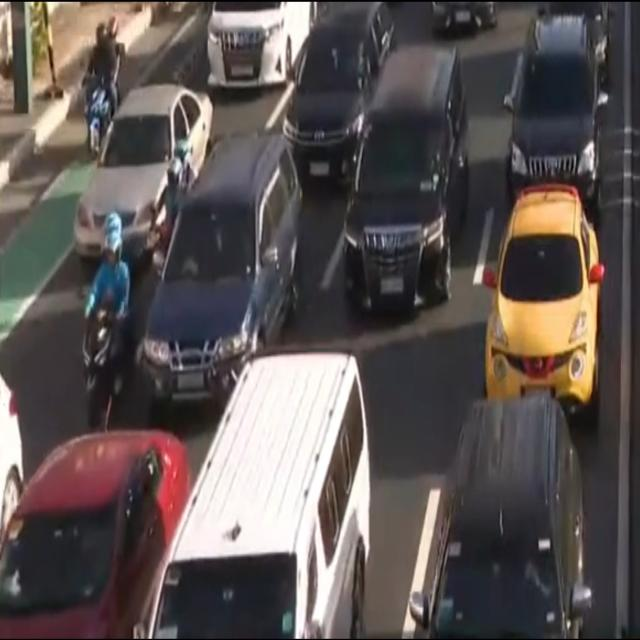Motorcycle: (79, 211, 135, 431), (80, 18, 124, 158)
SUV: (410, 391, 592, 640), (146, 136, 302, 400), (484, 187, 605, 430), (284, 0, 393, 191), (507, 16, 608, 206)
Sedan: (0, 427, 195, 640), (73, 87, 215, 260)
Van: (134, 351, 376, 640), (343, 44, 474, 316), (207, 0, 318, 95)
